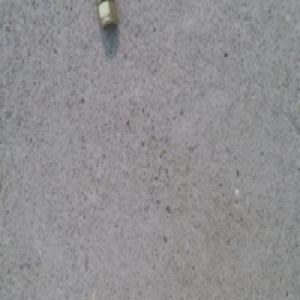BoltNutSet: (104, 0, 124, 37)
